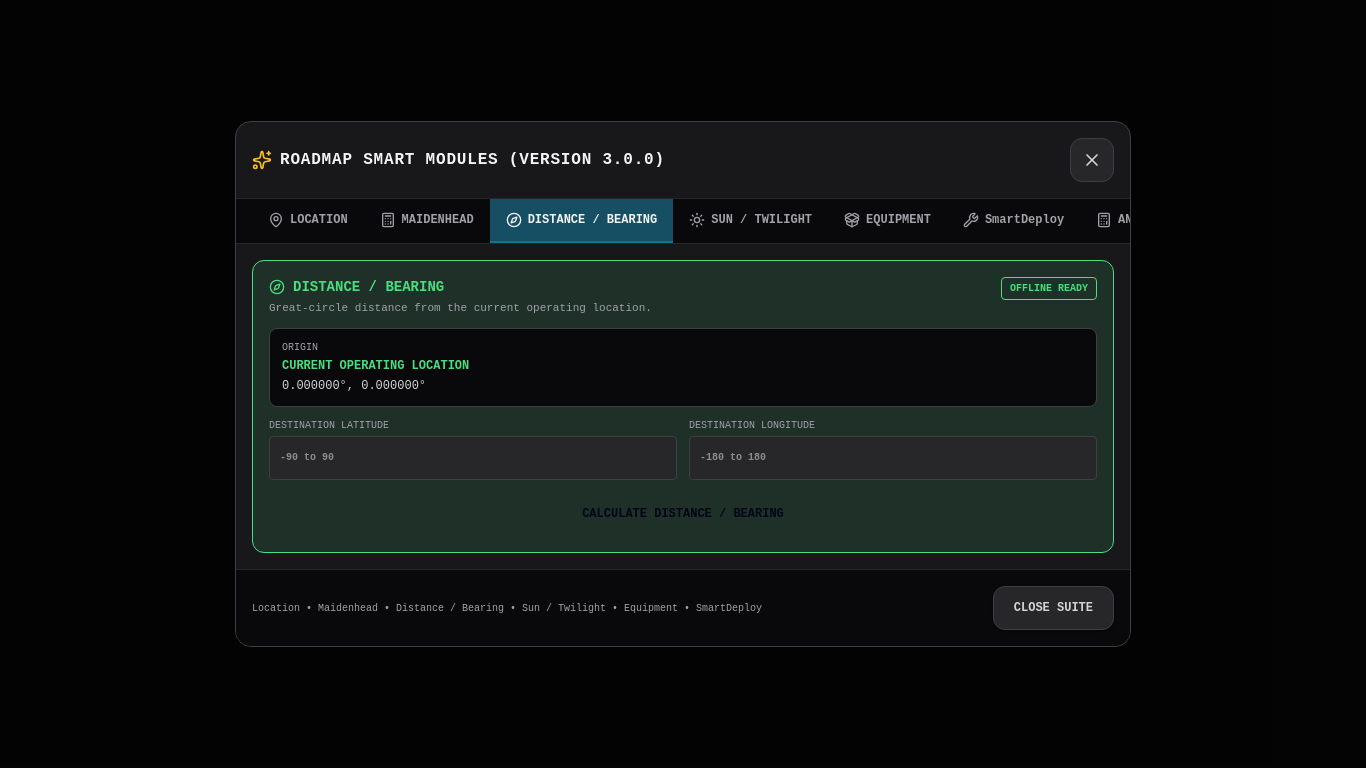
Test: Field Tools coordinate workspace › shows a non-meaningful bearing for the same point
Type "0" into the field labelled "Destination latitude" at point(473, 458), box [269,436,677,480]
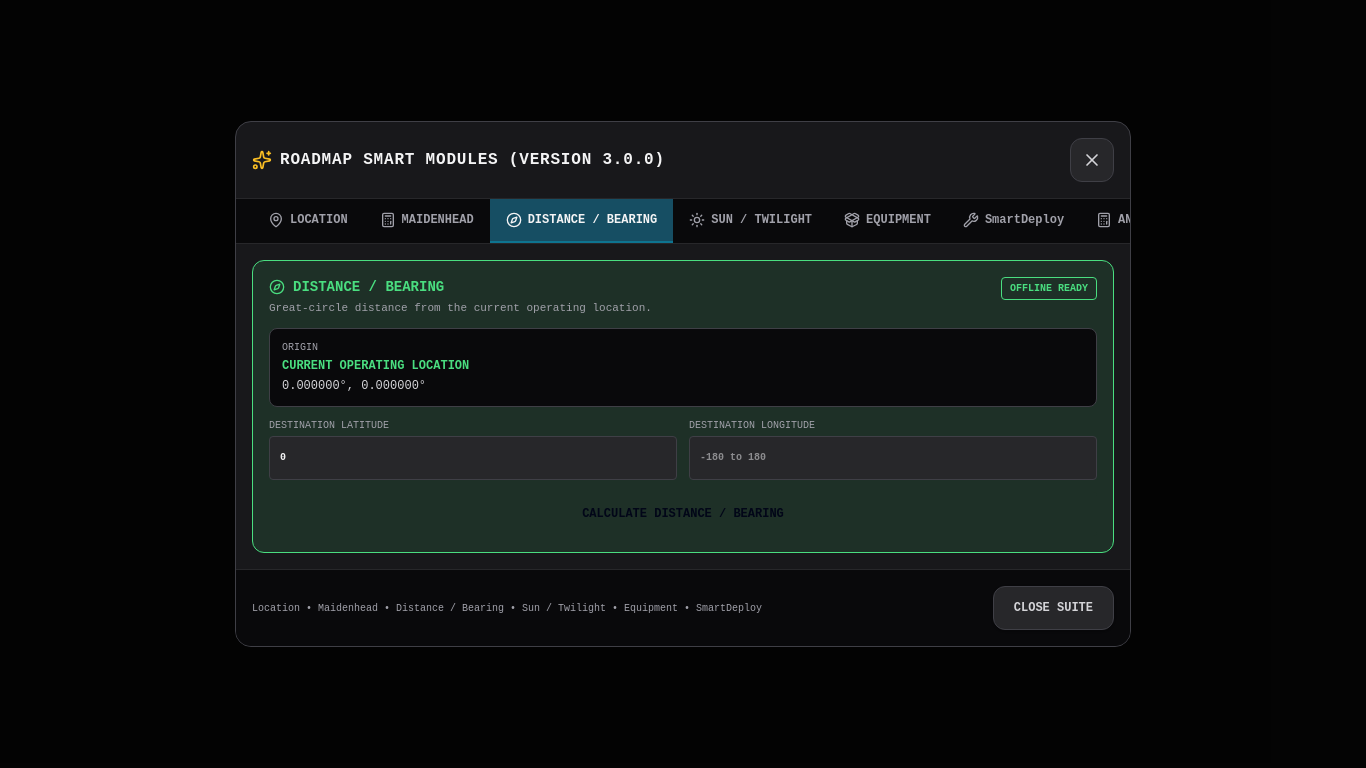
Type "0" into the field labelled "Destination longitude" at point(893, 458), box [689,436,1097,480]
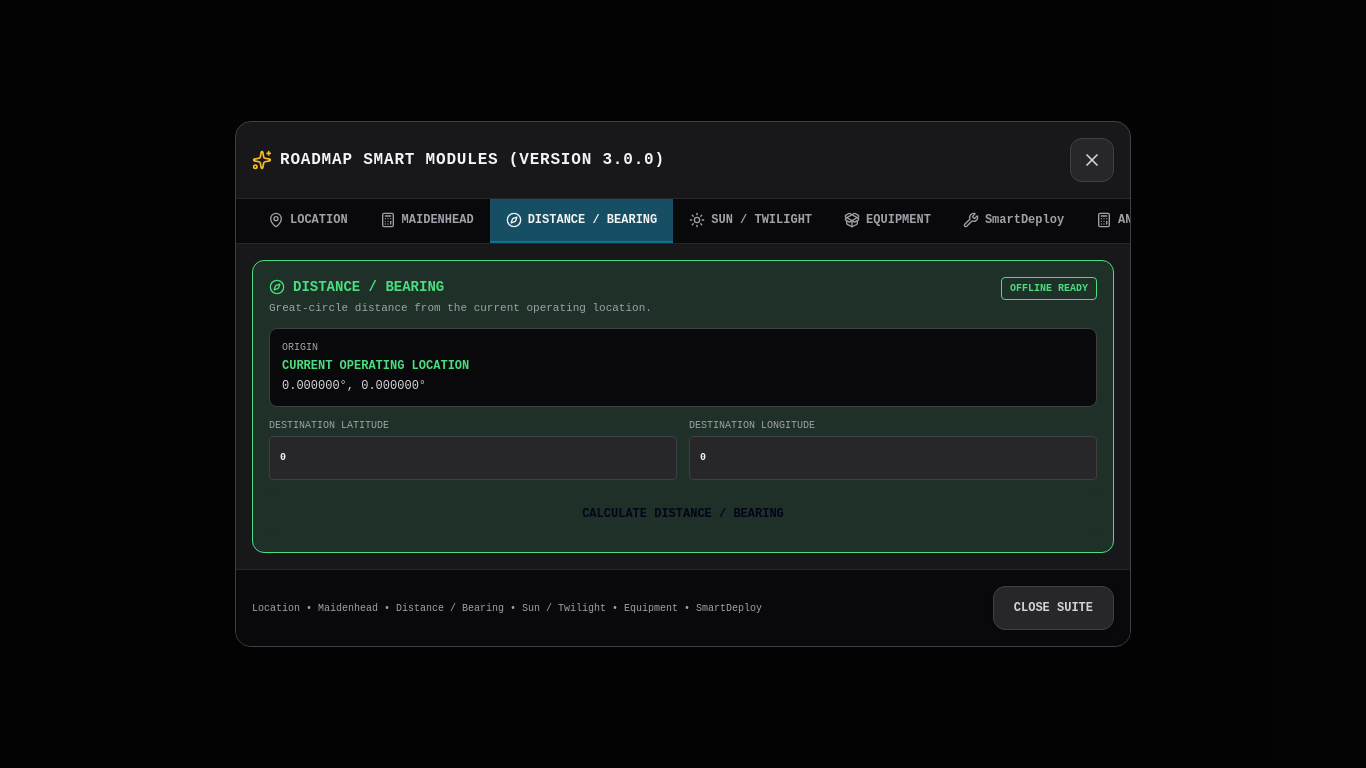
Click the button "CALCULATE DISTANCE / BEARING" at point(683, 514), box [269,492,1097,536]
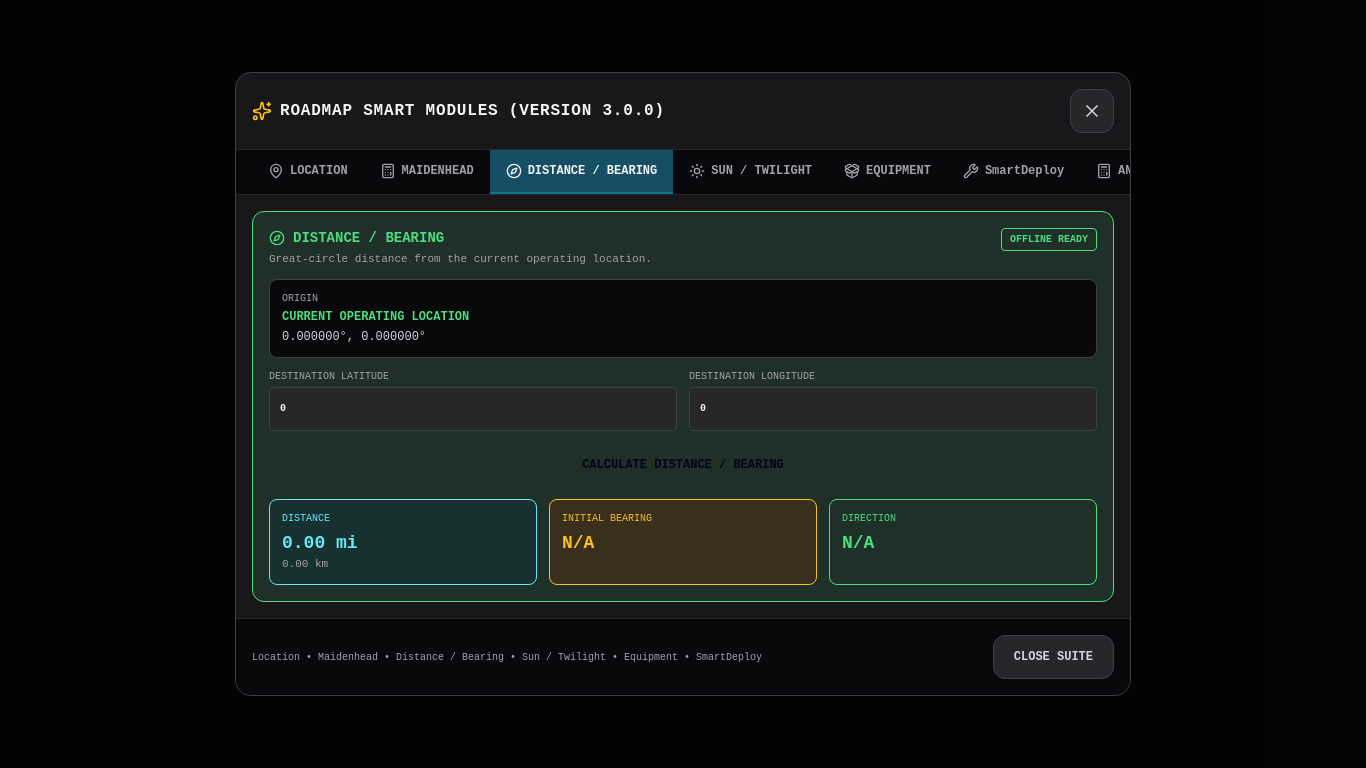
Result: the text "0.00 mi" is shown at [282,534,358,554]
Result: the text "N/A" is shown 2 times at [562,534,594,554]; [842,534,874,554]
